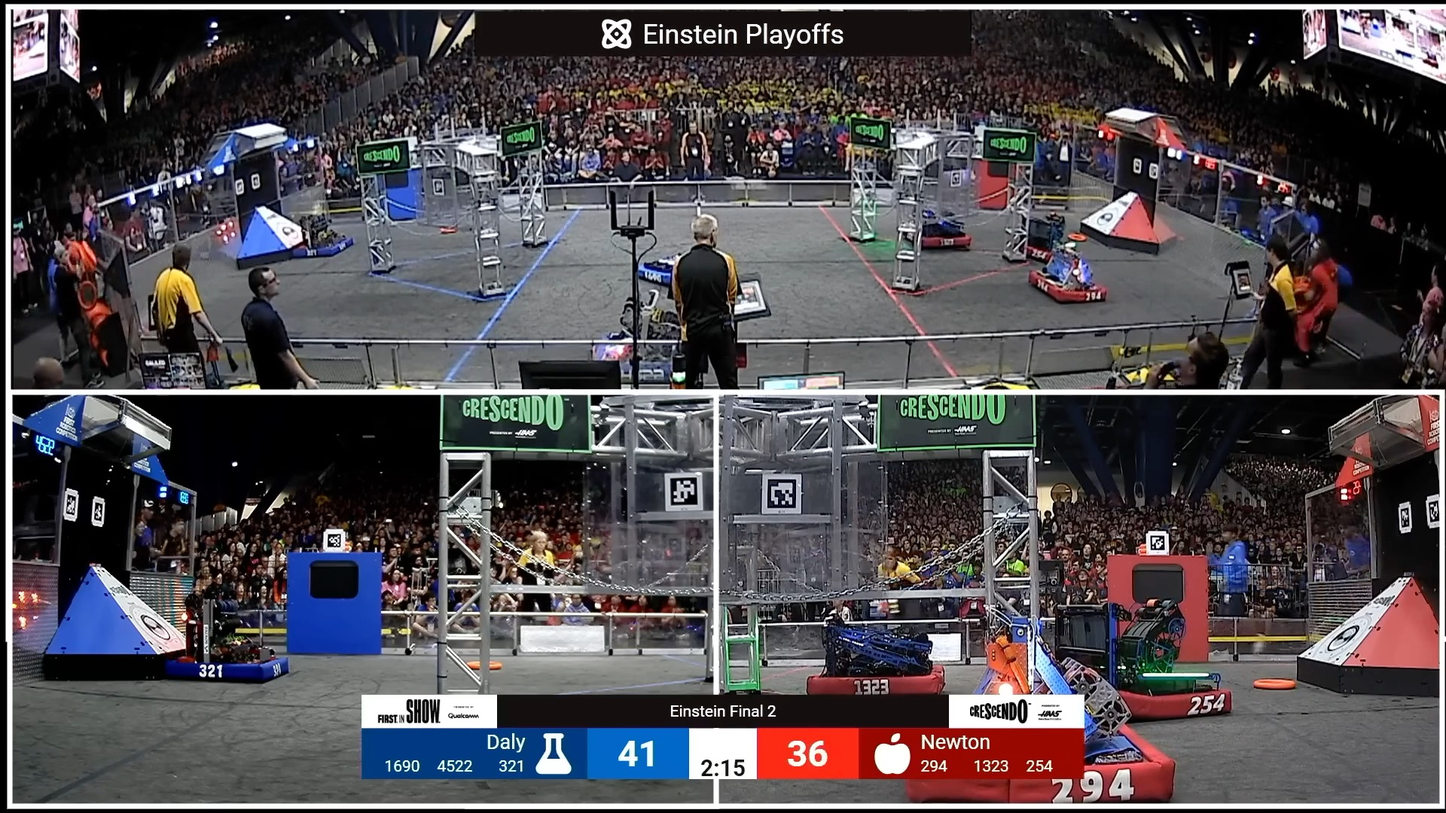bumpers: (888, 716, 1176, 798), (1098, 672, 1237, 729), (157, 650, 295, 688), (796, 666, 945, 697), (1022, 265, 1111, 309), (895, 220, 974, 253), (636, 258, 712, 289), (1012, 236, 1078, 260), (291, 235, 358, 258)
